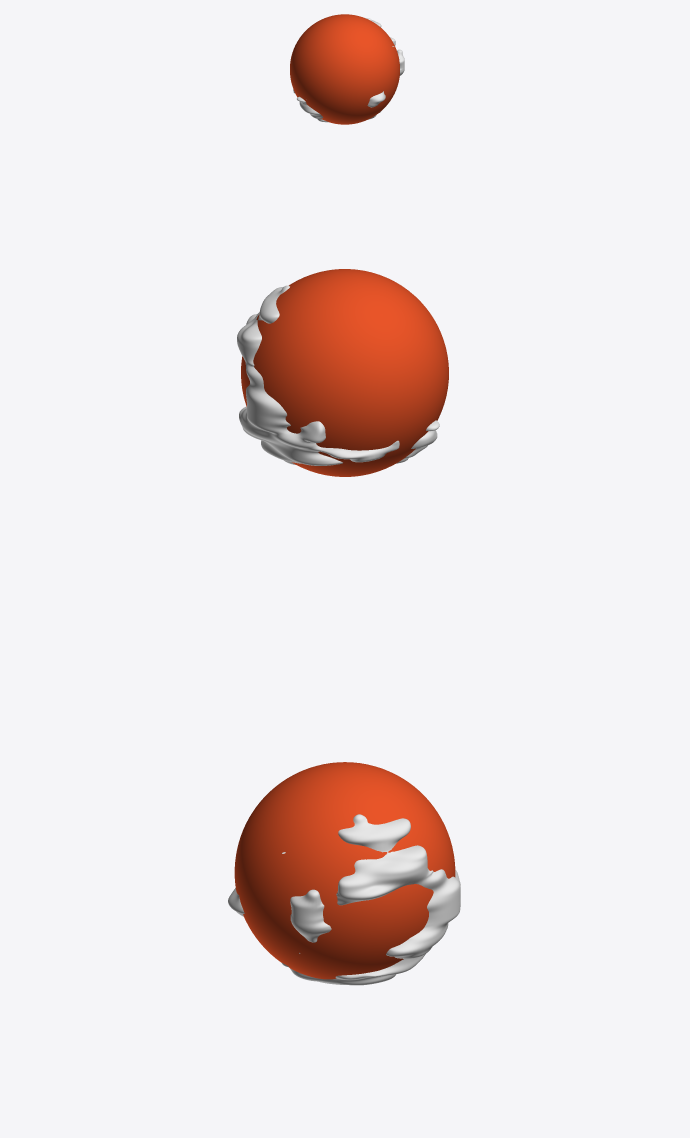
File: planet3.fbx
3 renders of one model, top to bottom at view 1: azimuth 30°, elevation 25°; view 2: azimuth 150°, elevation 25°; view 3: azimuth 270°, elevation 25°, orthographic. The views are drawn at different scales.
Parts seen in each view (by area): view 1: Cube; view 2: Cube; view 3: Cube.
Part boxes in pixels (bbox=[...]): Cube: bbox=[290, 14, 404, 124]; Cube: bbox=[237, 269, 448, 476]; Cube: bbox=[228, 762, 460, 985].
Bounding box in the file's own units: 1007 × 190 × 535.
